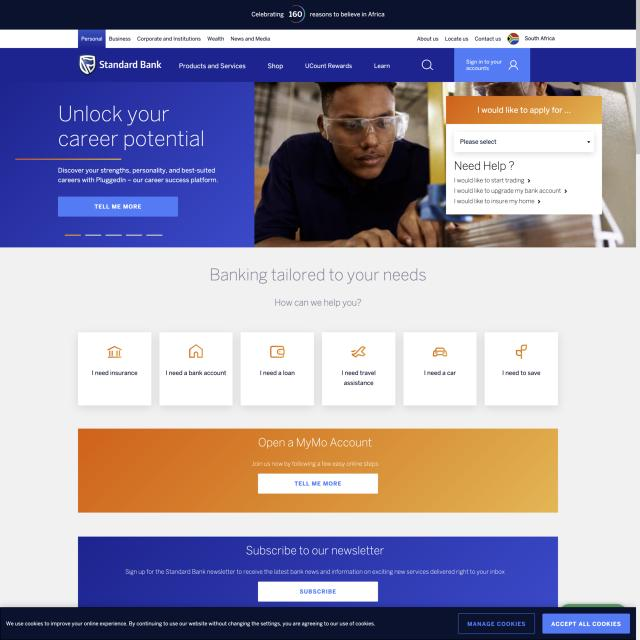CheckBox: (58, 195, 178, 218), (454, 48, 530, 82), (542, 612, 631, 635), (458, 613, 536, 636)
ImageView: (79, 428, 558, 512)
Input field: (56, 165, 220, 187), (5, 619, 380, 628)
ProgressBar: (1, 0, 635, 30)
Spinner: (446, 96, 602, 216)
accordion: (11, 156, 124, 165)
alert: (454, 131, 594, 154)
bag: (1, 0, 640, 82)
breadcrumbs: (206, 264, 433, 285)
carousel: (420, 59, 437, 72)
data feed: (467, 618, 526, 628), (550, 620, 621, 628), (90, 201, 144, 211)
date picker: (74, 54, 164, 74)
decoration: (75, 332, 559, 406), (79, 29, 275, 49), (176, 61, 393, 70), (415, 34, 504, 44)
dropdown: (62, 232, 167, 238)
header: (1, 606, 635, 640)
image: (54, 99, 207, 152)
